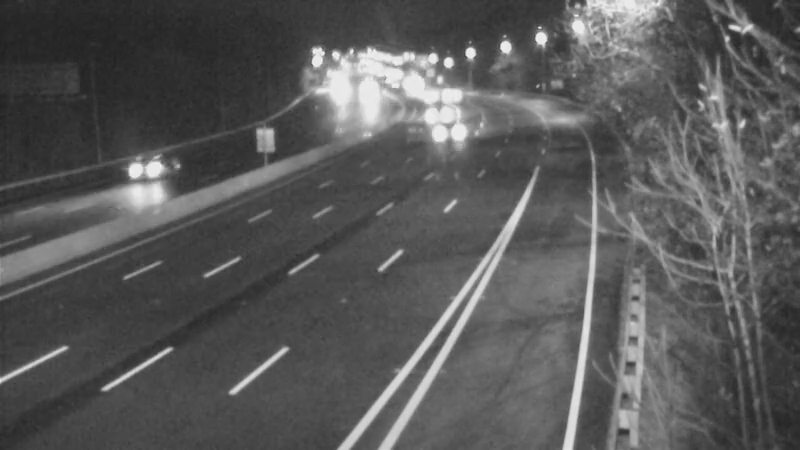vehicle: (116, 124, 196, 204), (425, 67, 475, 117), (404, 72, 454, 122), (414, 88, 464, 138), (425, 108, 475, 158)
